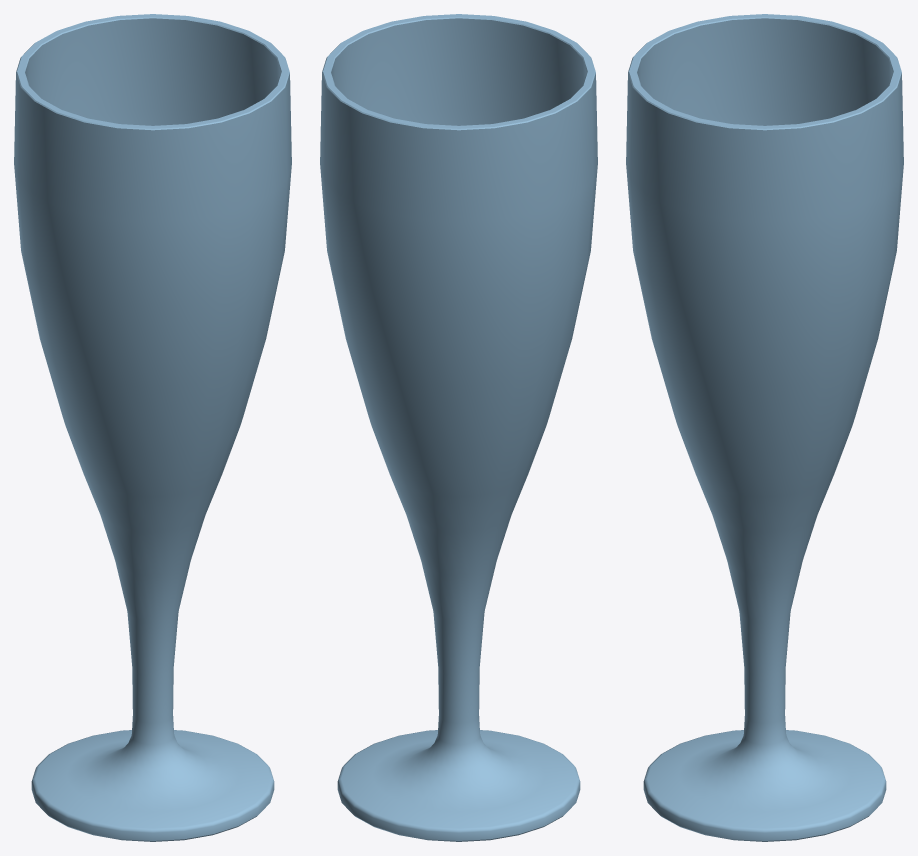
The model's file is win_01_glass.FBX.
3 views of the same model, side by side, from view 1: azimuth 30°, elevation 25°; view 2: azimuth 150°, elevation 25°; view 3: azimuth 270°, elevation 25° (orthographic).
Parts seen in each view (by area): view 1: win_01_glass; view 2: win_01_glass; view 3: win_01_glass.
Boxes of the visible parts, x1,y1,x2,y2 form: win_01_glass: (14, 14, 291, 841); win_01_glass: (320, 14, 597, 841); win_01_glass: (626, 14, 903, 841).
Size of the model in its own units: 57.03 by 163 by 57.03.
